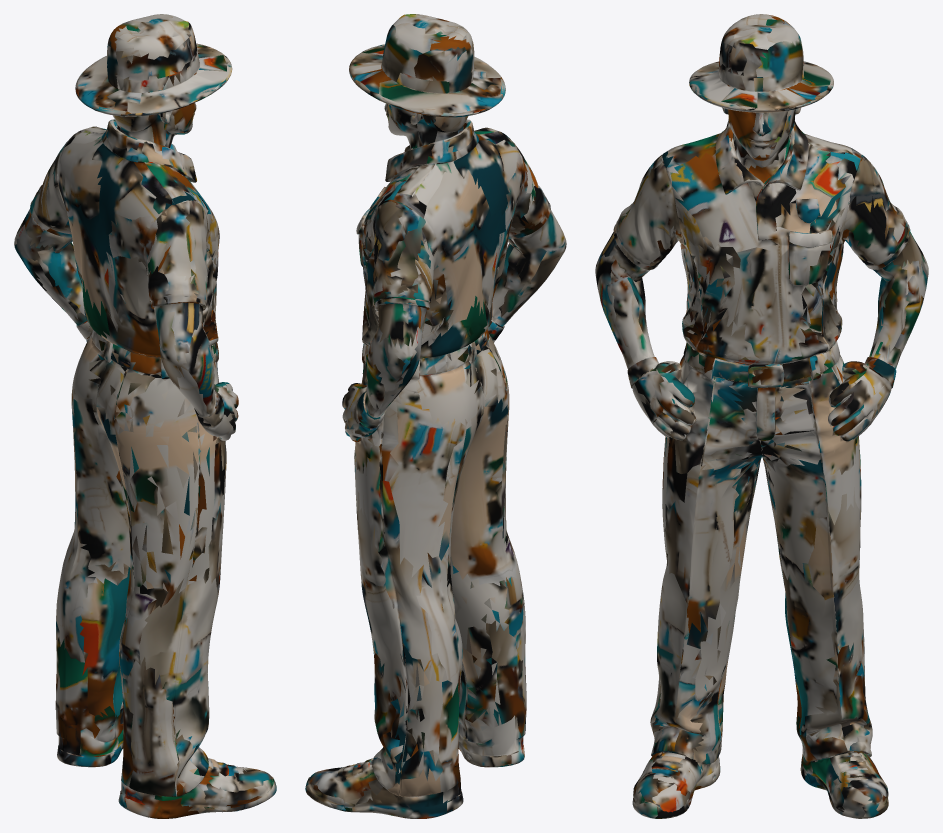
File: SM_C26_Player_Umpire.fbx
3 renders of one model, left to right at view 1: azimuth 30°, elevation 25°; view 2: azimuth 150°, elevation 25°; view 3: azimuth 270°, elevation 25°, orthographic.
Visible parts, largest first — view 1: node_0; view 2: node_0; view 3: node_0.
Boxes of the visible parts, x1=… form: node_0: x1=14, y1=14, x2=276, y2=818; node_0: x1=305, y1=14, x2=566, y2=818; node_0: x1=595, y1=14, x2=928, y2=818.
Size of the model in its own units: 72.16 by 35.24 by 183.
